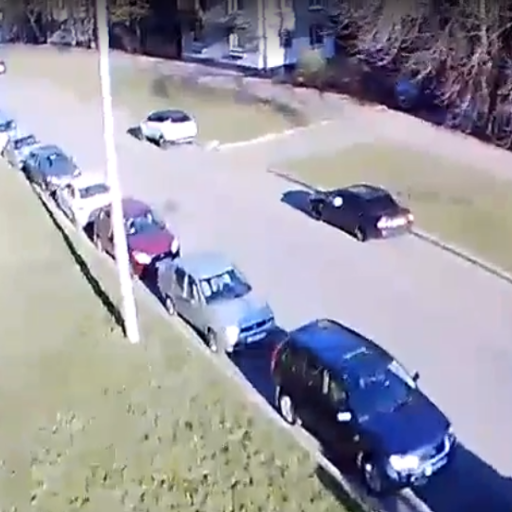Car: (270, 316, 461, 492), (158, 248, 275, 355), (313, 175, 414, 240), (93, 197, 179, 272), (53, 173, 120, 223), (133, 105, 197, 147), (19, 143, 78, 186), (2, 130, 43, 163)
